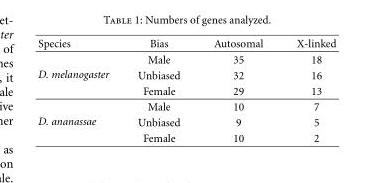table: (37, 37, 335, 143)
table column: (37, 37, 122, 143), (196, 37, 279, 143), (122, 37, 196, 143), (279, 37, 335, 143)
table column header: (37, 37, 335, 51)
table row: (37, 51, 335, 67), (37, 82, 335, 98), (37, 98, 335, 114), (37, 114, 335, 130), (37, 67, 335, 82), (37, 37, 335, 51), (37, 130, 335, 143)
table spanning cell: (37, 51, 122, 98), (37, 98, 122, 143)
